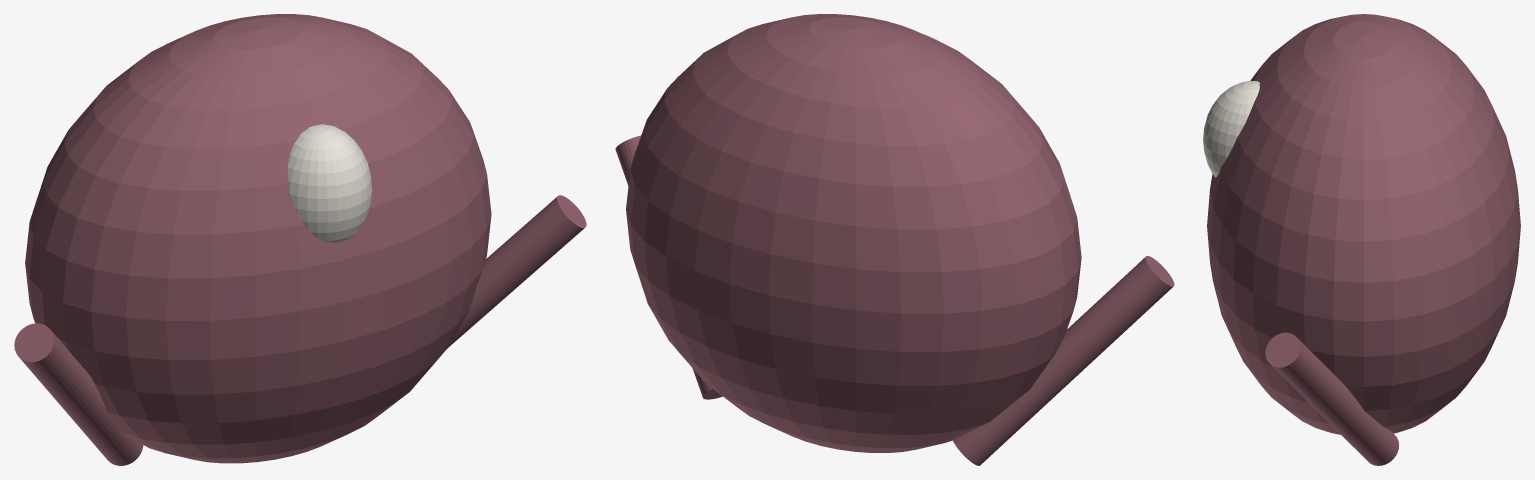
File: boss_amalgam.gltf
3 views of the same model, side by side, from view 1: azimuth 30°, elevation 25°; view 2: azimuth 150°, elevation 25°; view 3: azimuth 270°, elevation 25° (orthographic). The views are drawn at different scales.
Visible parts, largest first — view 1: Sphere, Sphere.001, Cylinder, Cylinder.001; view 2: Sphere, Cylinder, Cylinder.001; view 3: Sphere, Cylinder.001, Sphere.001.
Boxes of the visible parts, x1,y1,x2,y2 form: Sphere: (25, 14, 491, 463); Sphere.001: (287, 124, 372, 242); Cylinder: (14, 323, 143, 465); Cylinder.001: (447, 195, 586, 348); Sphere: (626, 14, 1081, 452); Cylinder: (953, 256, 1174, 465); Cylinder.001: (615, 135, 722, 399); Sphere: (1207, 14, 1520, 434); Cylinder.001: (1265, 332, 1399, 465); Sphere.001: (1203, 81, 1259, 177).
Bounding box in the file's own units: 3.74 × 2.64 × 2.
